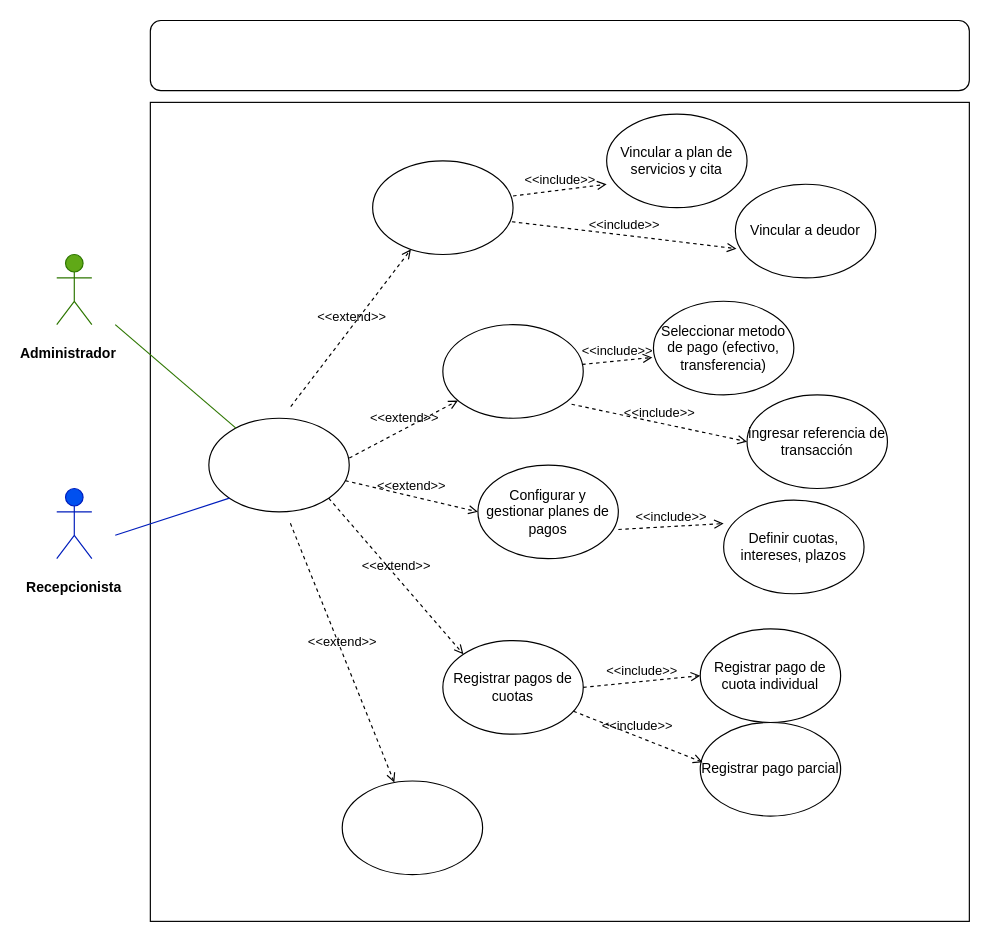
The diagram is 990 pixels wide and 942 high, and some of its shapes have lost their labels. Here are the shapes that lost their labels. From the top down, the centre of each, then its label:
the point at 559,55: Diagrama de caso de uso del Módulo de Facturación
the point at 442,207: Generar factura
the point at 512,371: Registrar pagos directos
the point at 278,464: Gestión de facturación
the point at 412,827: Abortar o modificar facturas
